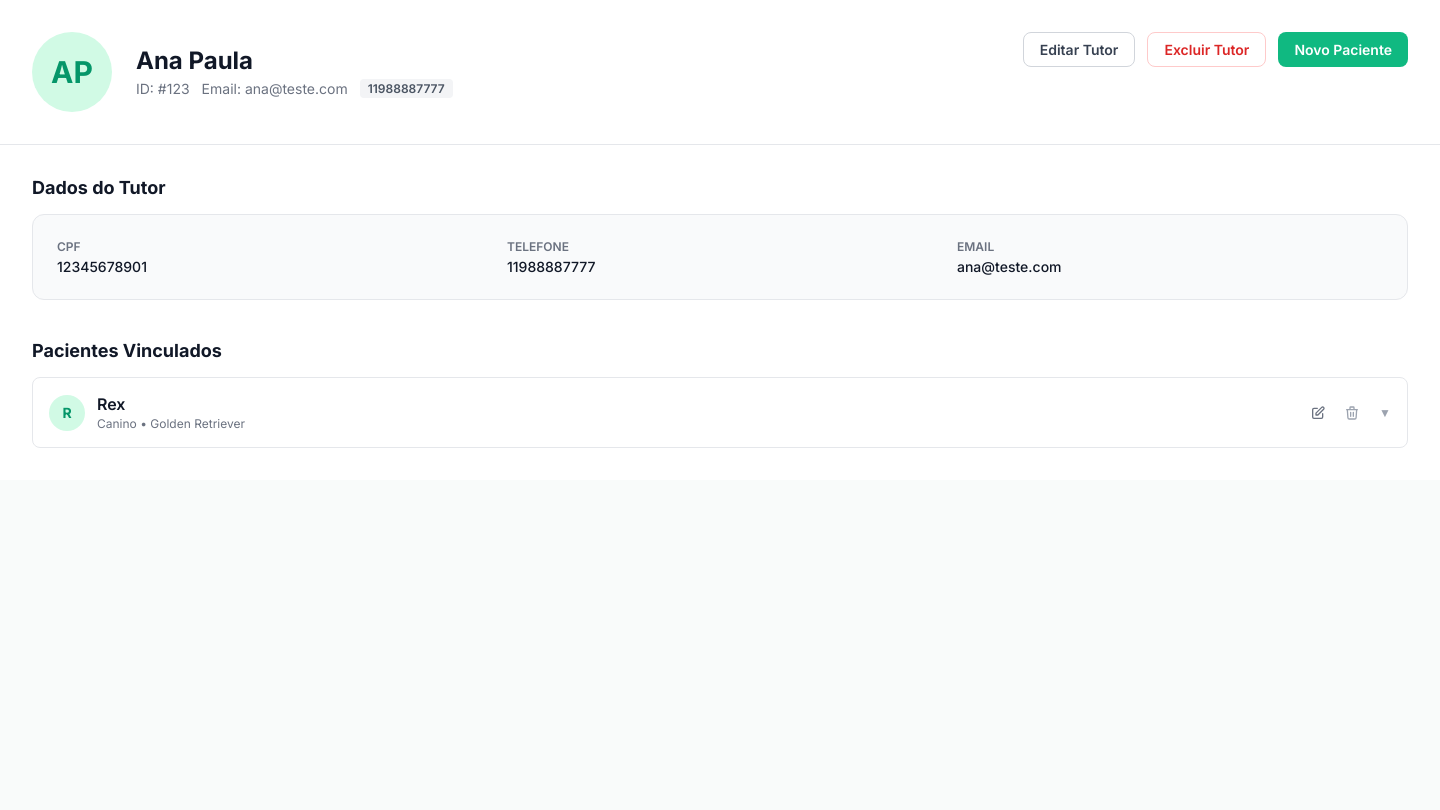
Test: PatientDetail › ao clicar no pet, expande e exibe suas informações detalhadas
Expected: the text "Dourado" is not shown
Clica no cabeçalho do card do pet
Click the text "Rex".
click(111, 404)  # box x1=97 y1=394 x2=126 y2=414
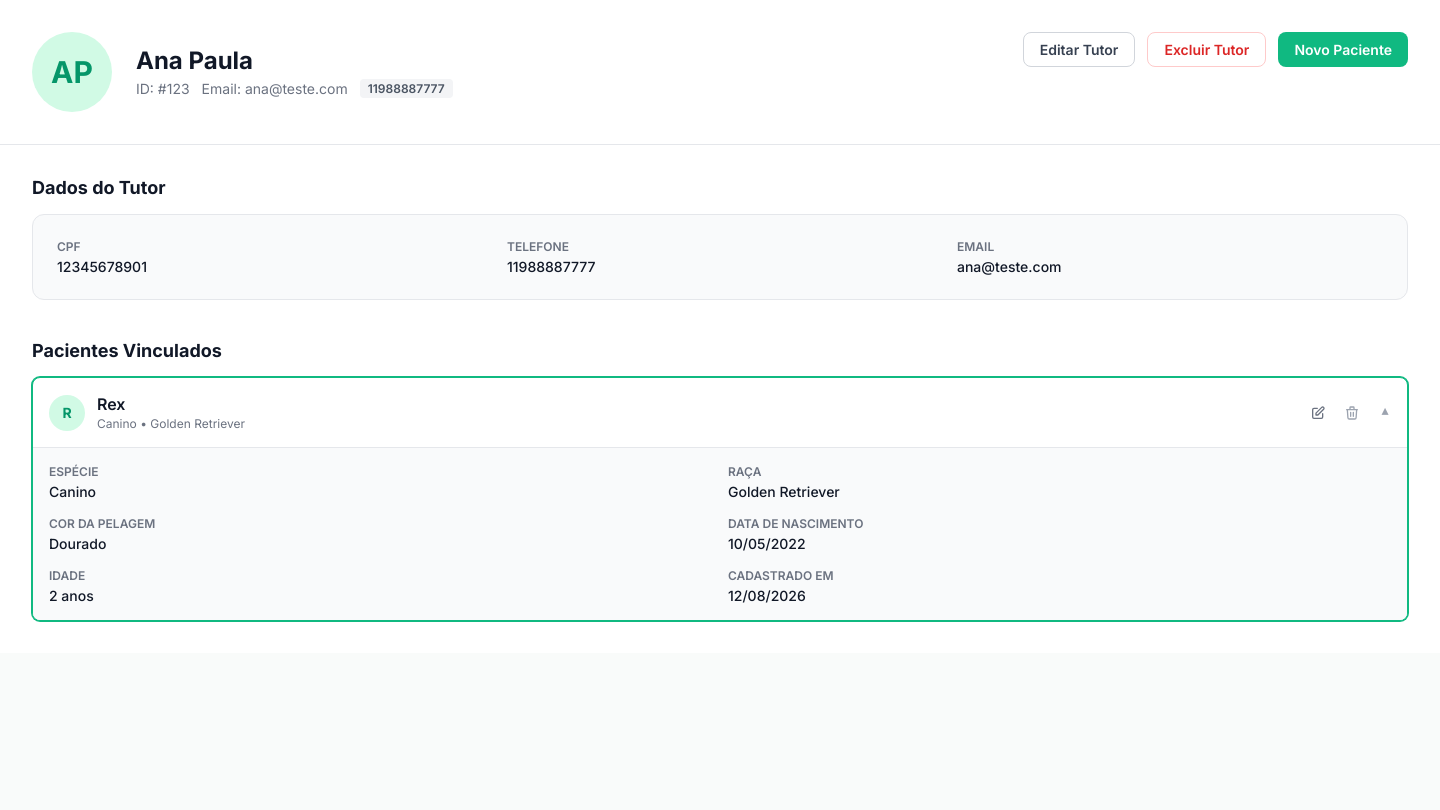
Now the text "Canino" is shown, box x1=49 y1=483 x2=96 y2=500
Now the text "Golden Retriever" is shown, box x1=728 y1=483 x2=840 y2=500
Now the text "Dourado" is shown, box x1=49 y1=535 x2=106 y2=552
